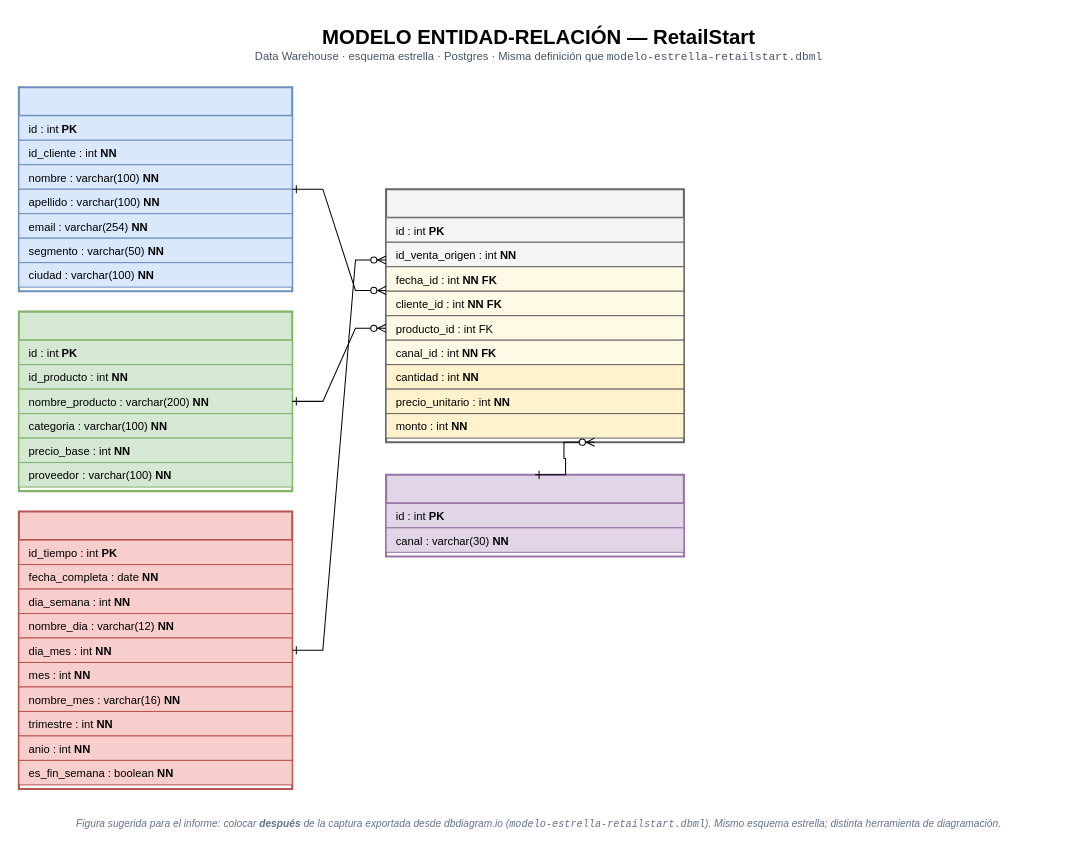
Image size: 1076x865. Some labels were removed from this diagram. The shapes that lost their labels are listed below. From the top down, each one's box as (x1, y1, x2, y2) in pixels, then its label:
(17, 86, 293, 292): DimCliente
(385, 188, 684, 443): FactVentas
(17, 310, 293, 492): DimProducto
(385, 473, 684, 557): DimCanal
(17, 510, 293, 789): DimTiempo
